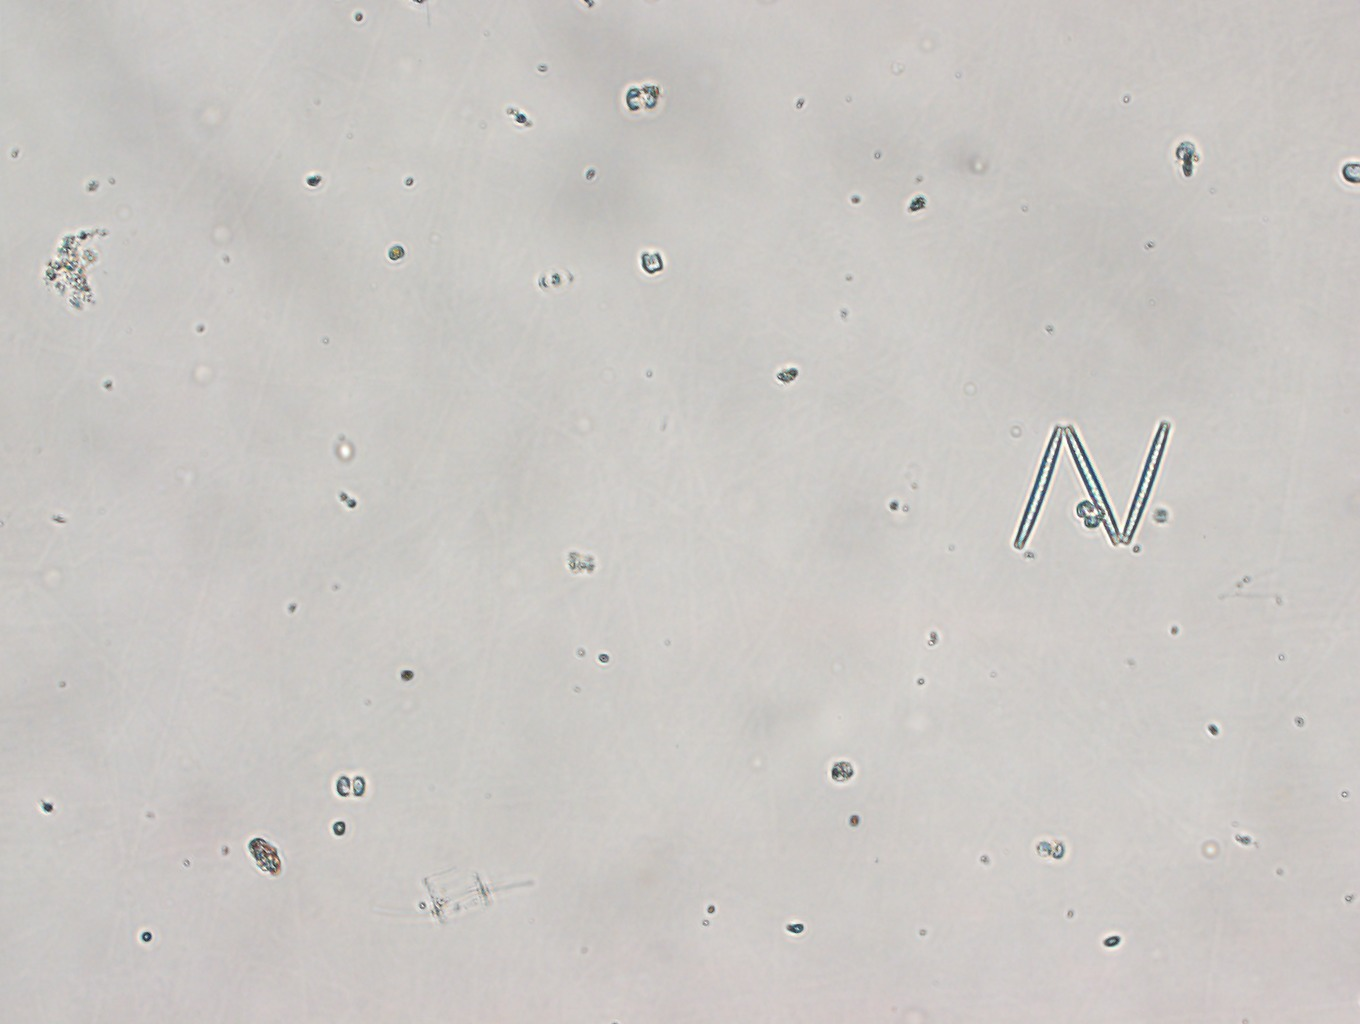thalassionema nitzschioides: (1012, 419, 1169, 550)
